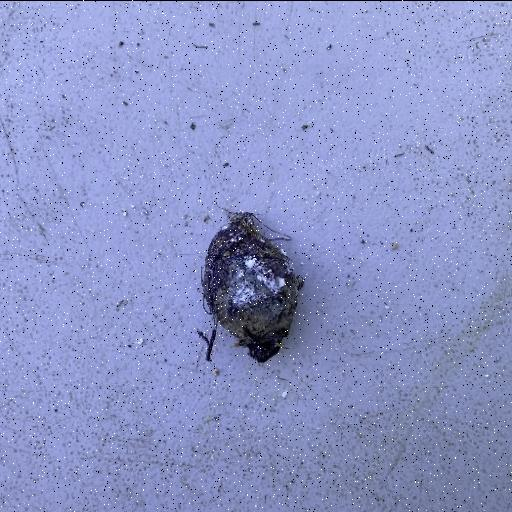Waste: (196, 208, 304, 366)
